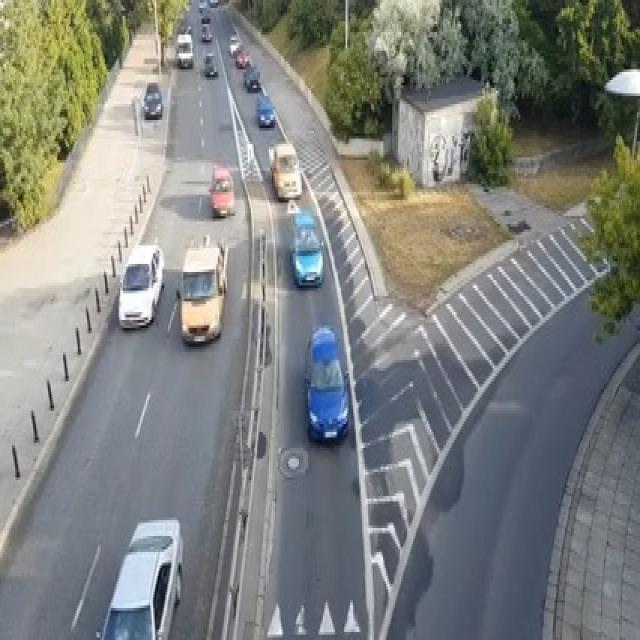bus: (177, 232, 227, 344)
car: (95, 518, 183, 638), (302, 322, 349, 442), (117, 243, 164, 328), (287, 200, 323, 288), (267, 141, 302, 200), (209, 165, 234, 216), (143, 80, 162, 117), (255, 96, 275, 125), (176, 32, 192, 67), (243, 66, 260, 90), (204, 50, 218, 74), (228, 35, 242, 56), (234, 50, 250, 66), (200, 24, 212, 40), (198, 0, 208, 11), (200, 11, 210, 21), (185, 24, 191, 32), (209, 0, 218, 5)
